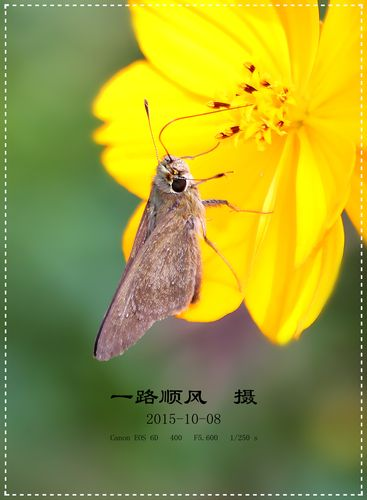Hesperiidae: (92, 97, 258, 370)
